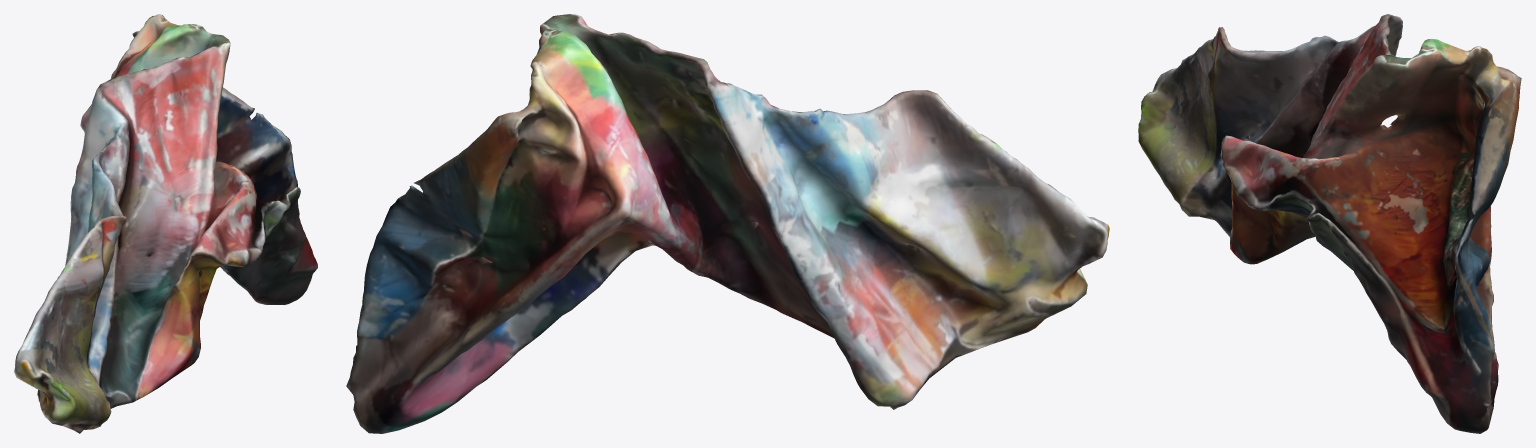
The model's file is preview.glb.
3 views of the same model, side by side, from view 1: azimuth 30°, elevation 25°; view 2: azimuth 150°, elevation 25°; view 3: azimuth 270°, elevation 25° (orthographic). The views are drawn at different scales.
Visible parts, largest first — view 1: ObjectCapture; view 2: ObjectCapture; view 3: ObjectCapture.
Part boxes in pixels (x1,y1,x2,y2): ObjectCapture: [14, 14, 317, 433]; ObjectCapture: [346, 14, 1109, 433]; ObjectCapture: [1138, 14, 1521, 433].
Size of the model in its own units: 0.2088 by 0.1473 by 0.1555.
1 material, 1 textured.
